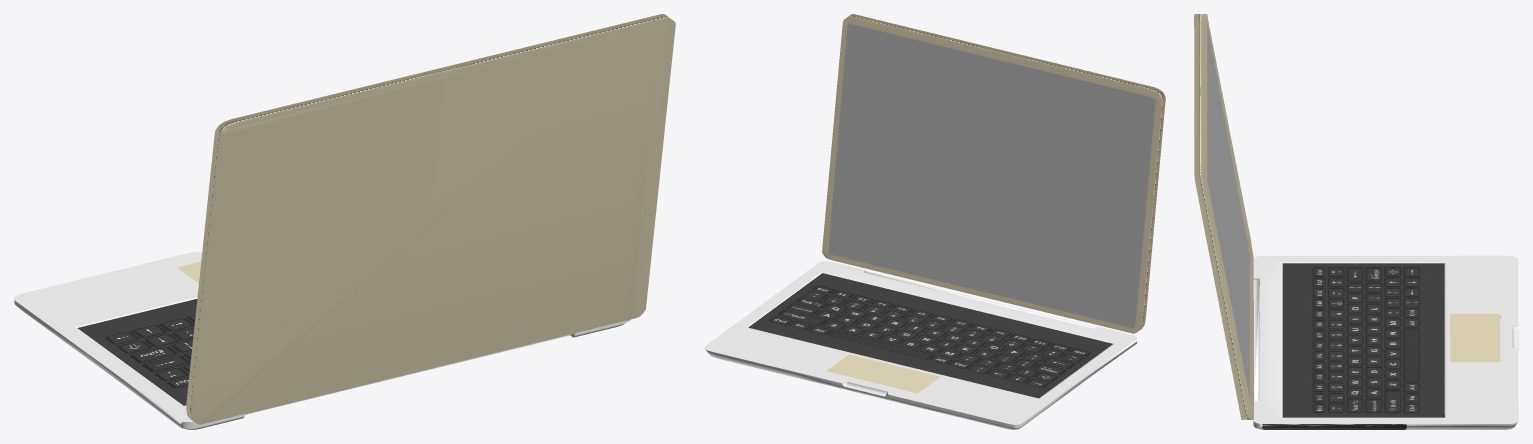
The model's file is Laptop.fbx.
The picture shows the model from 3 angles, left to right: view 1: azimuth 30°, elevation 25°; view 2: azimuth 150°, elevation 25°; view 3: azimuth 270°, elevation 25°; orthographic projection. The views are drawn at different scales.
Parts seen in each view (by area): view 1: Laptop_UPPERClean, Laptop_Bot_Clean; view 2: Laptop_UPPERClean, Laptop_Bot_Clean; view 3: Laptop_Bot_Clean, Laptop_UPPERClean.
Boxes of the visible parts, bbox=[...] form: Laptop_UPPERClean: bbox=[186, 14, 675, 424]; Laptop_Bot_Clean: bbox=[14, 251, 630, 429]; Laptop_UPPERClean: bbox=[822, 14, 1165, 333]; Laptop_Bot_Clean: bbox=[704, 261, 1136, 429]; Laptop_Bot_Clean: bbox=[1253, 255, 1518, 429]; Laptop_UPPERClean: bbox=[1194, 14, 1253, 419].
Bounding box in the file's own units: 33.98 × 23.84 × 27.59.
